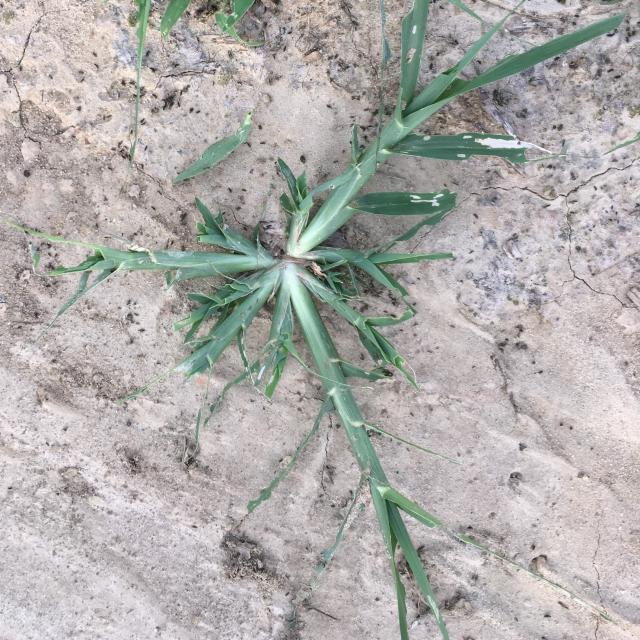Goosegrass: (7, 1, 627, 640)
